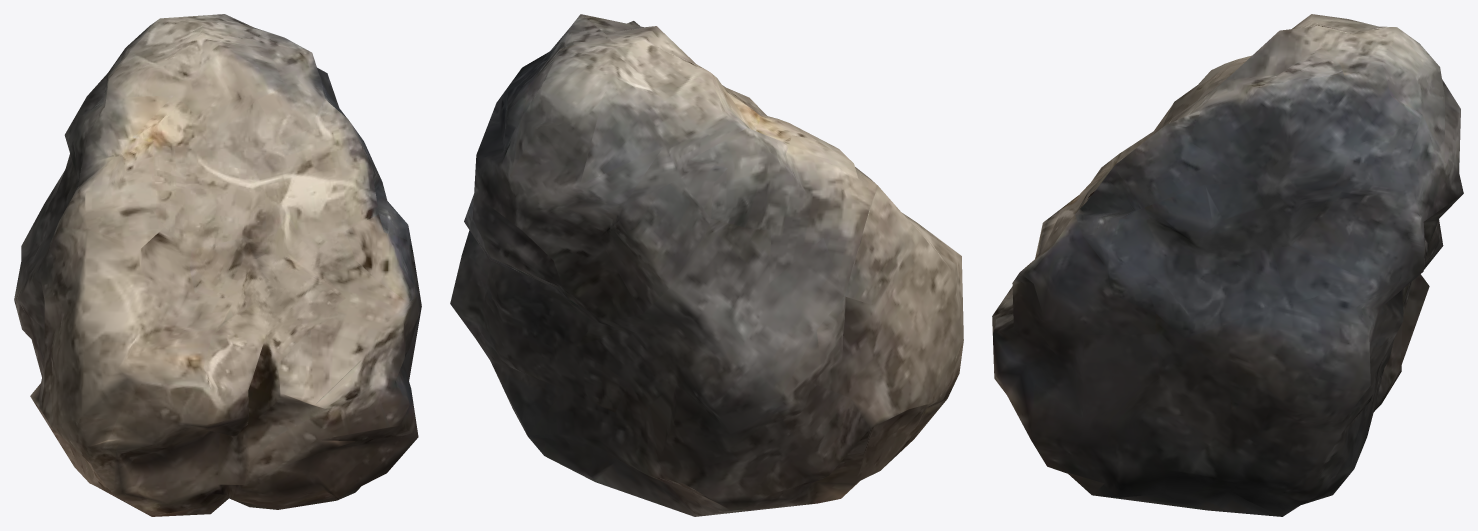
The model's file is fruegel_rock.glb.
3 renders of one model, left to right at view 1: azimuth 30°, elevation 25°; view 2: azimuth 150°, elevation 25°; view 3: azimuth 270°, elevation 25°, orthographic. The views are drawn at different scales.
Parts seen in each view (by area): view 1: tripo_node_d8616a76-f341-4e8c-99c4-3b7ba4061b7b; view 2: tripo_node_d8616a76-f341-4e8c-99c4-3b7ba4061b7b; view 3: tripo_node_d8616a76-f341-4e8c-99c4-3b7ba4061b7b.
Part boxes in pixels (box(x1,y1,x2,y2)): tripo_node_d8616a76-f341-4e8c-99c4-3b7ba4061b7b: box(14, 14, 421, 516); tripo_node_d8616a76-f341-4e8c-99c4-3b7ba4061b7b: box(450, 14, 963, 516); tripo_node_d8616a76-f341-4e8c-99c4-3b7ba4061b7b: box(992, 14, 1463, 516).
Size of the model in its own units: 0.9385 by 1 by 0.963.
Materials: 1 (1 with a texture image).
